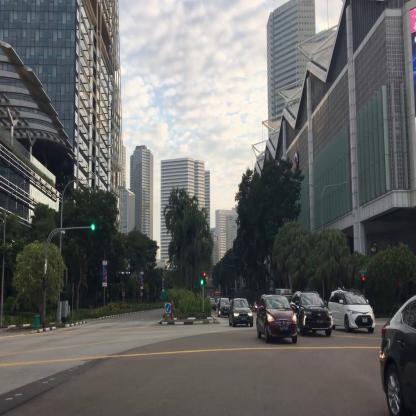green_traffic_light: (91, 225, 101, 229), (201, 272, 203, 285)
